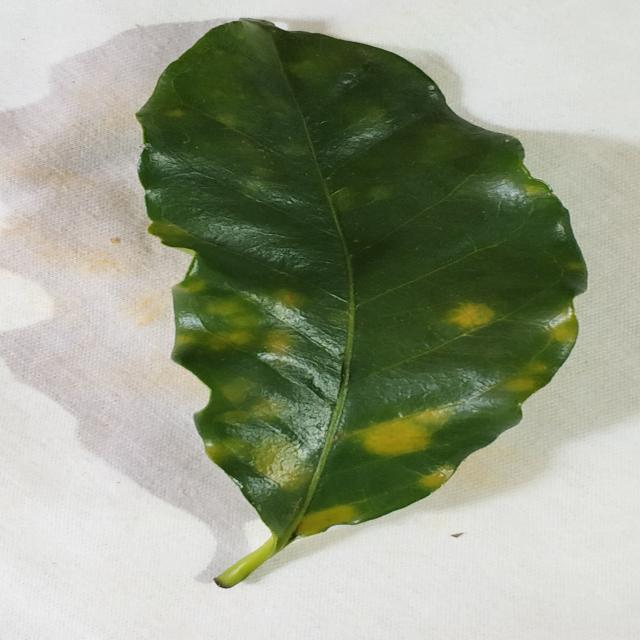Enfermedad-Roya: (135, 19, 589, 591)
